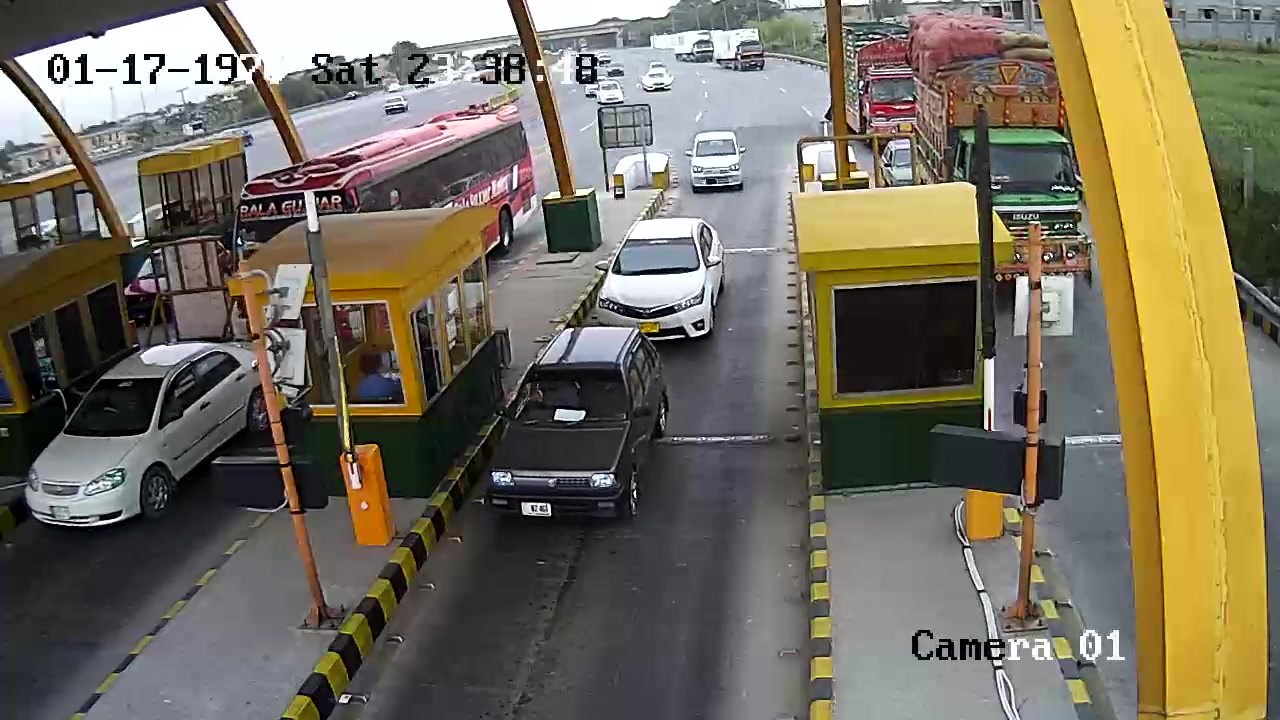F1: (482, 326, 677, 529)
